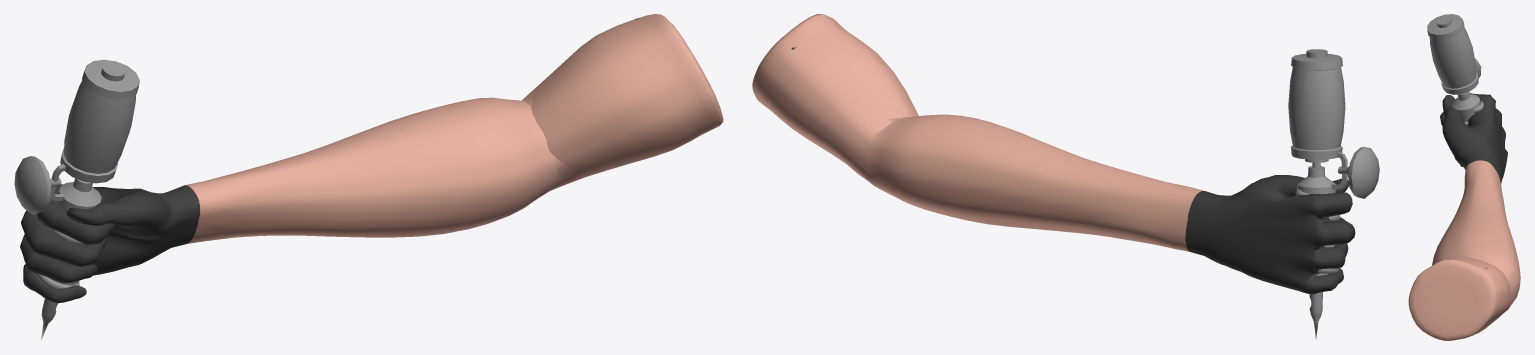
Rendered from npc_Tatgun01.fbx.
The picture shows the model from 3 angles, left to right: view 1: azimuth 30°, elevation 25°; view 2: azimuth 150°, elevation 25°; view 3: azimuth 270°, elevation 25°; orthographic projection. The views are drawn at different scales.
Visible parts, largest first — view 1: tatgun01; view 2: tatgun01; view 3: tatgun01.
Part boxes in pixels (x1,y1,x2,y2): tatgun01: (14, 14, 723, 339); tatgun01: (752, 14, 1379, 339); tatgun01: (1408, 14, 1520, 340).
Size of the model in its own units: 418 by 171 by 90.94.
Materials: 2 (1 with a texture image).
